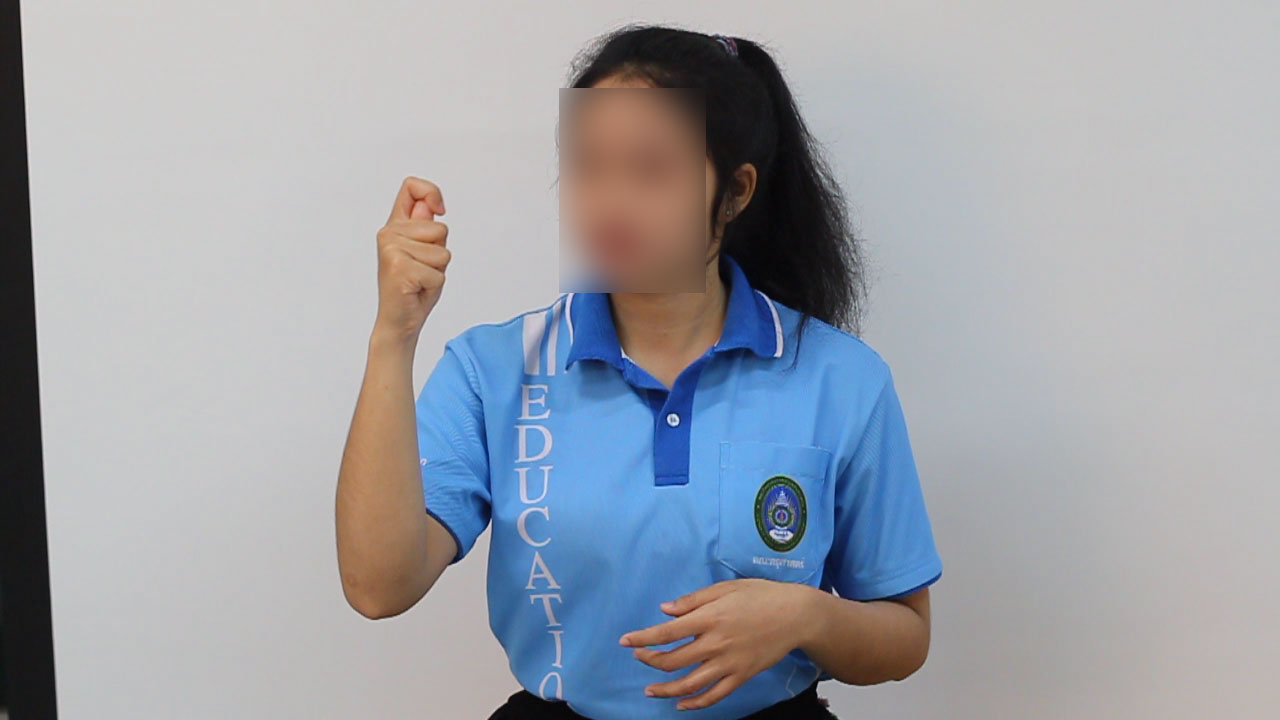or: (361, 171, 460, 344)
